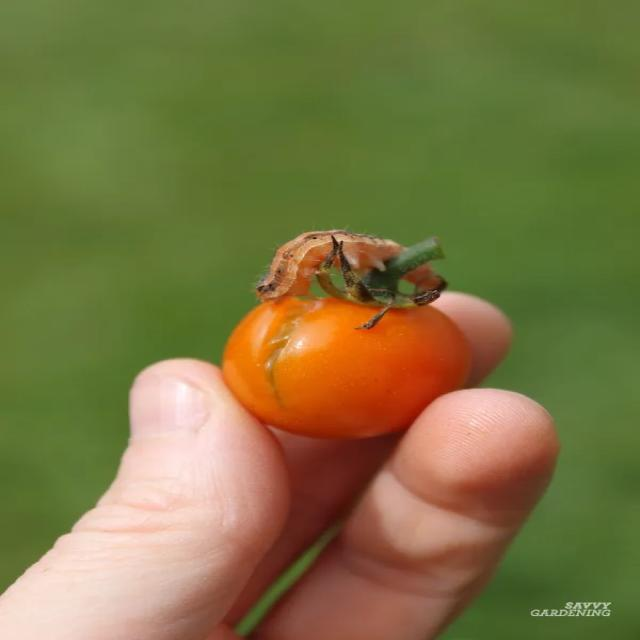damaged: (213, 270, 478, 440)
